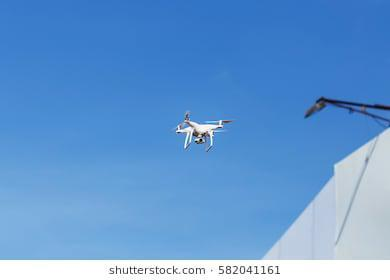drone: (166, 107, 233, 152)
